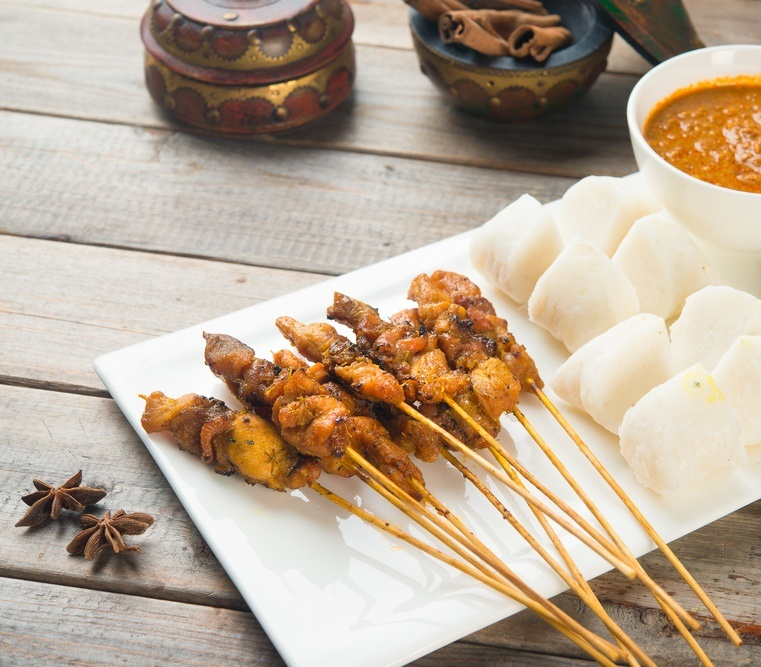sate: (137, 267, 742, 667)
